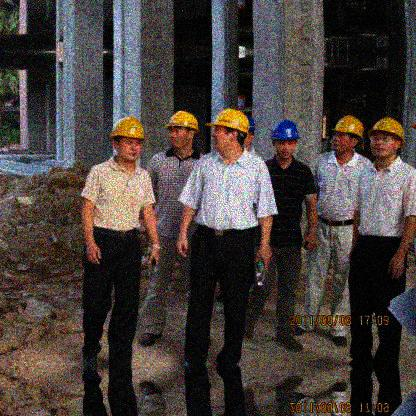helmet: (207, 108, 251, 157), (368, 117, 407, 167), (329, 114, 366, 159), (110, 117, 145, 163), (164, 109, 200, 152), (271, 120, 300, 165)
